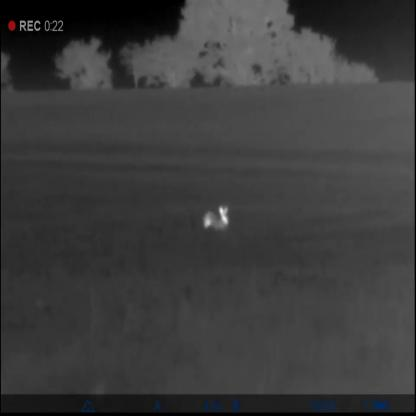rehkitze: (203, 206, 232, 233)
